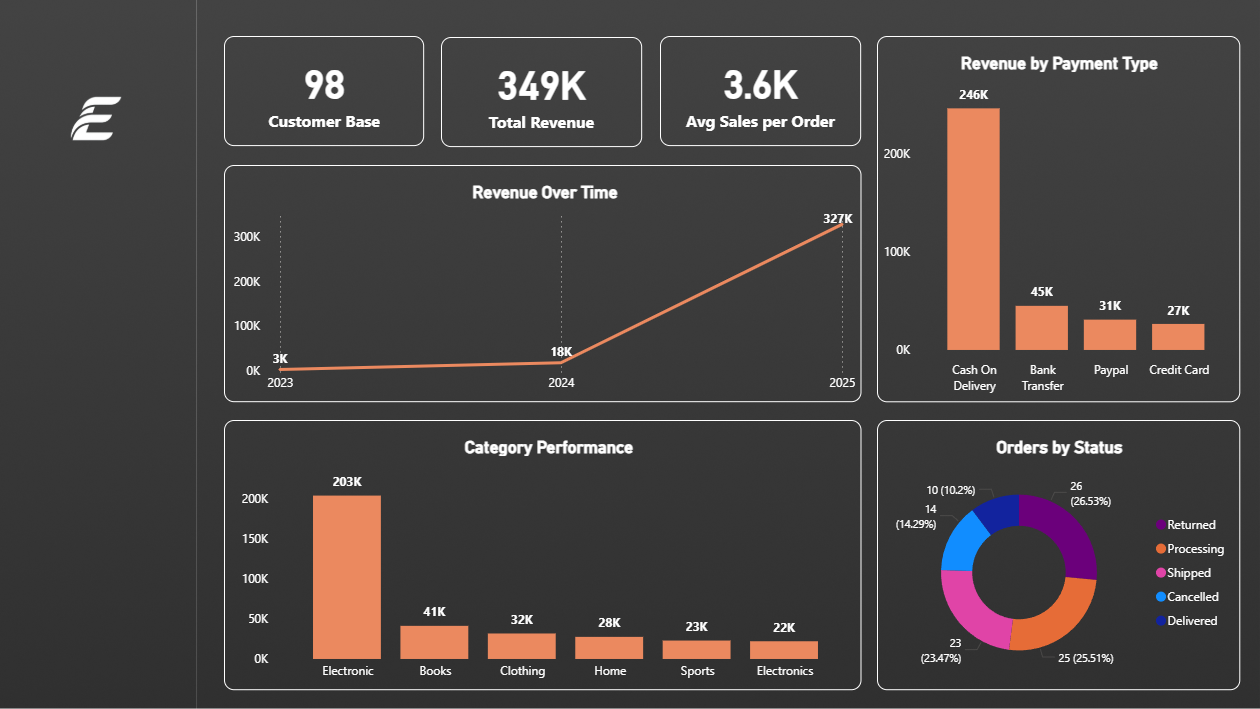

This screenshot's page, from the dashboard's own definition file:
{"tool":"powerbi","page":{"name":"Page 1","canvas":[1280,720],"ordinal":0},"visuals":[{"type":"image","box":[0,0,1280,719.4],"z":0},{"type":"image","box":[8.8,26.3,196.5,196.5],"z":1000},{"type":"card","fields":{"Values":["Table1.Customer Base"]},"box":[234.4,42.1,200.4,110],"z":2000},{"type":"card","fields":{"Values":["Table1.Total Revenue"]},"box":[451.6,43,200.8,109.9],"z":3000},{"type":"card","fields":{"Values":["Table1.Avg Sales per Order"]},"box":[670.5,42,200.8,109.9],"z":4000},{"type":"lineChart","title":"Revenue Over Time","fields":{"Category":["Table1.Year"],"Y":["Sum(Table1.Total)"]},"box":[234.8,170.9,636.5,236.8],"z":5000},{"type":"columnChart","title":"Category Performance","fields":{"Category":["Table1.Category"],"Y":["Sum(Table1.Total)"]},"box":[234.8,425.7,636.5,269.8],"z":6000},{"type":"columnChart","title":"Revenue by Payment Type","fields":{"Y":["Sum(Table1.Total)"],"Category":["Table1.Payment Method"]},"box":[887.3,42,362.7,365.7],"z":7000},{"type":"donutChart","title":"Orders by Status","fields":{"Category":["Table1.Status"],"Y":["CountNonNull(Table1.ID)"]},"box":[887.3,425.7,362.7,269.8],"z":7001}]}

Visuals, with their boxes in screenshot pixels (x1, y1, x2, y2), scaled from the page's 1280x720 canvas onto the 1260x709 screenshot:
image: Rect(0, 0, 1259, 708)
image: Rect(9, 26, 202, 219)
card - Table1.Customer Base: Rect(231, 41, 428, 150)
card - Table1.Total Revenue: Rect(445, 42, 642, 151)
card - Table1.Avg Sales per Order: Rect(660, 41, 858, 150)
"Revenue Over Time" lineChart: Rect(231, 168, 858, 401)
"Category Performance" columnChart: Rect(231, 419, 858, 685)
"Revenue by Payment Type" columnChart: Rect(873, 41, 1230, 401)
"Orders by Status" donutChart: Rect(873, 419, 1230, 685)
